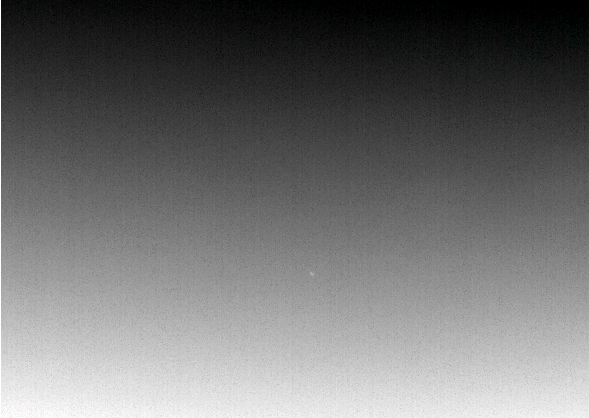dim target: (309, 271, 314, 276)
